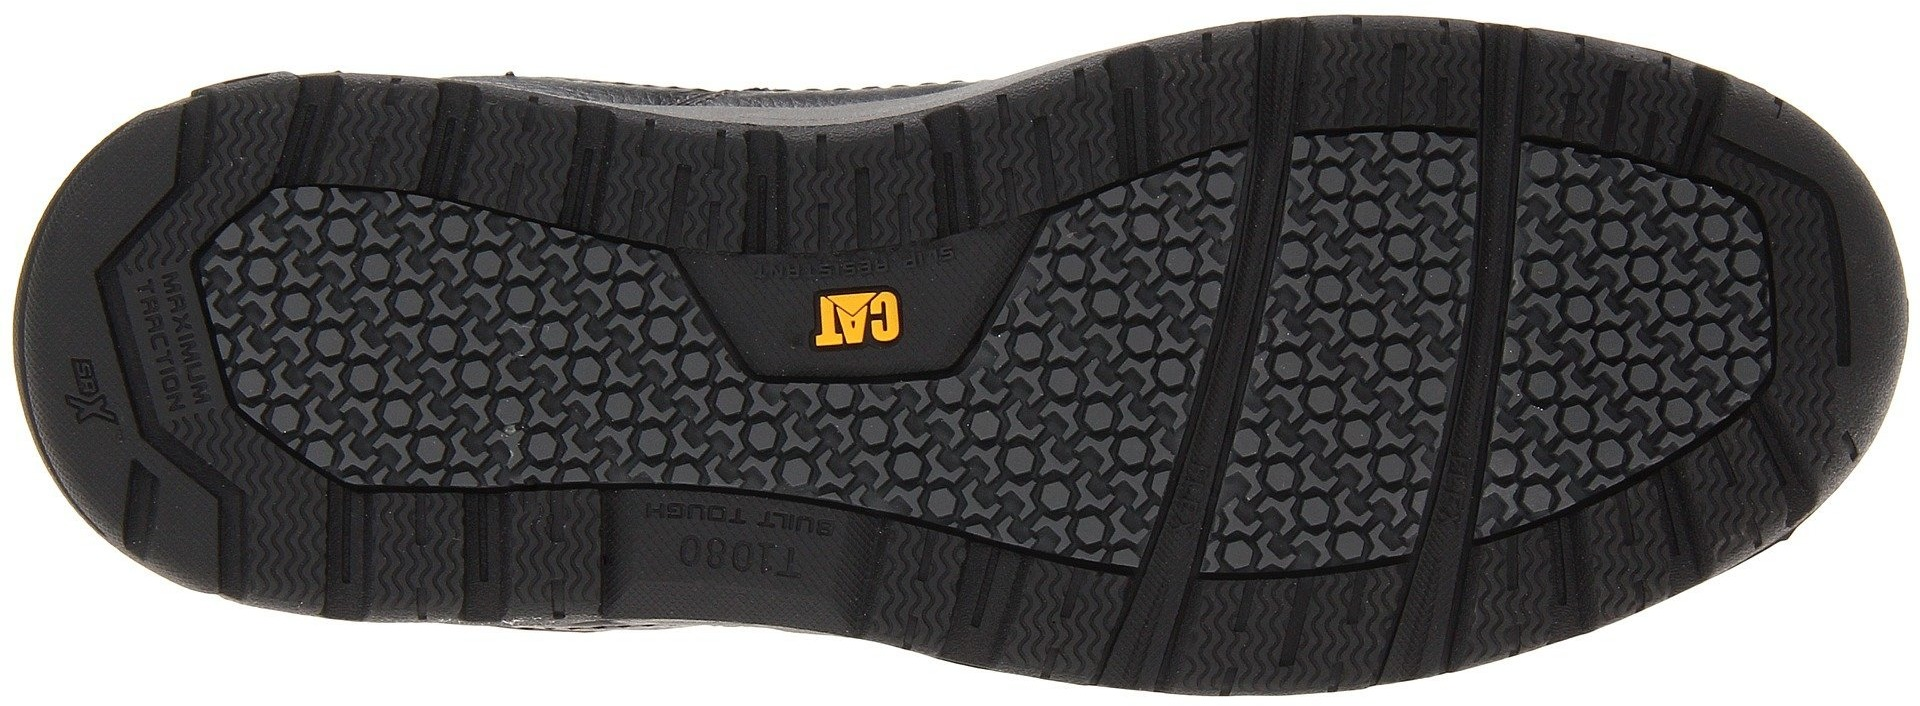other: (268, 197, 563, 481), (536, 303, 718, 481), (1584, 223, 1768, 393)
quad: (309, 481, 457, 622), (1166, 574, 1333, 697), (758, 139, 877, 256)
ribbon: (1373, 344, 1558, 507), (1411, 163, 1578, 328), (1127, 351, 1291, 502), (1177, 164, 1335, 308)
text: (782, 259, 928, 376), (737, 500, 838, 591), (649, 492, 740, 587), (127, 266, 204, 346)
